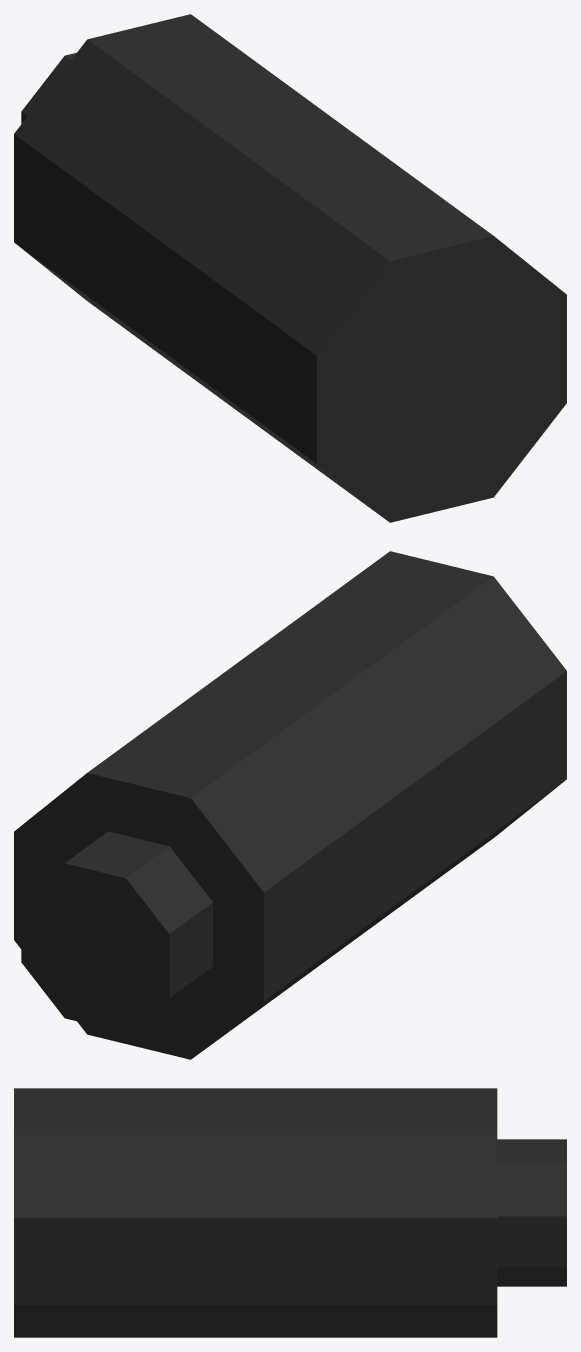
Rendered from LMG2_04_4.fbx.
3 views of the same model, one above another, from view 1: azimuth 30°, elevation 25°; view 2: azimuth 150°, elevation 25°; view 3: azimuth 270°, elevation 25° (orthographic). The views are drawn at different scales.
Visible parts, largest first — view 1: LMG2_04_4; view 2: LMG2_04_4; view 3: LMG2_04_4.
Boxes of the visible parts, bbox=[...] form: LMG2_04_4: bbox=[14, 14, 566, 522]; LMG2_04_4: bbox=[14, 551, 566, 1059]; LMG2_04_4: bbox=[14, 1088, 566, 1337].
Bounding box in the file's own units: 0.0138 × 0.0138 × 0.0332.
